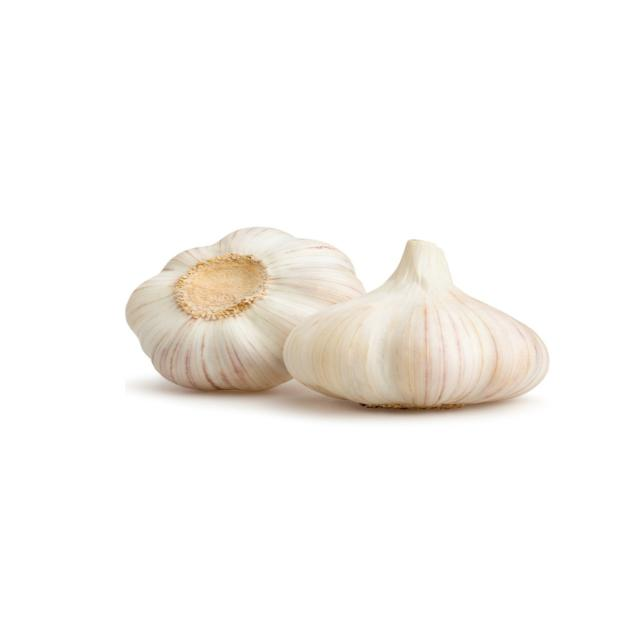garlic: (129, 217, 556, 432)
